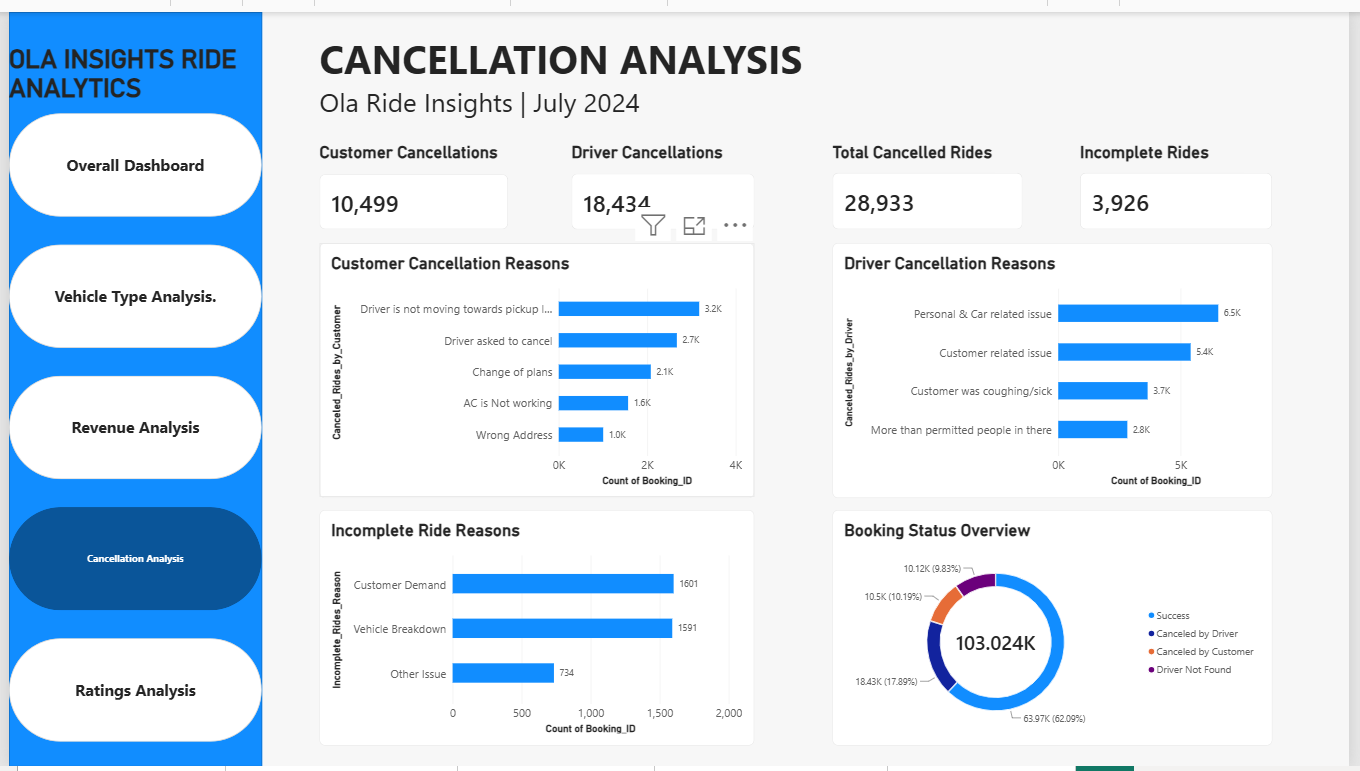

What the dashboard file says about the page in this screenshot:
{"tool":"powerbi","page":{"name":"Cancellation Analysis","canvas":[1920,1080],"ordinal":3},"visuals":[{"type":"cardVisual","title":"Customer Cancellations","fields":{"Data":["ola_rides_cleaned.Customer Cancellations"]},"box":[445,187.5,270,125],"z":0},{"type":"cardVisual","title":"Driver Cancellations","fields":{"Data":["ola_rides_cleaned.Driver Cancellations"]},"box":[805,187.5,262.5,125],"z":1},{"type":"cardVisual","title":"Total Cancelled Rides","fields":{"Data":["ola_rides_cleaned.Total Cancelled Rides"]},"box":[1180,187.5,272.5,125],"z":2},{"type":"cardVisual","title":"Incomplete Rides","fields":{"Data":["ola_rides_cleaned.Incomplete Rides"]},"box":[1535,187.5,275,125],"z":3},{"type":"textbox","box":[445,27.5,1365,160],"z":4},{"type":"clusteredBarChart","title":"Customer Cancellation Reasons","fields":{"Category":["ola_rides_cleaned.Canceled_Rides_by_Customer"],"Y":["CountNonNull(ola_rides_cleaned.Booking_ID)"]},"box":[445,330,622.5,365],"z":5},{"type":"clusteredBarChart","title":"Driver Cancellation Reasons","fields":{"Category":["ola_rides_cleaned.Canceled_Rides_by_Driver"],"Y":["CountNonNull(ola_rides_cleaned.Booking_ID)"]},"box":[1180,330,630,365],"z":6},{"type":"clusteredBarChart","title":"Incomplete Ride Reasons","fields":{"Category":["ola_rides_cleaned.Incomplete_Rides_Reason"],"Y":["CountNonNull(ola_rides_cleaned.Booking_ID)"]},"box":[445,712.5,622.5,337.5],"z":7},{"type":"donutChart","title":"Booking Status Overview","fields":{"Category":["ola_rides_cleaned.Booking_Status"],"Y":["CountNonNull(ola_rides_cleaned.Booking_ID)"]},"box":[1180,712.5,630,337.5],"z":8},{"type":"shape","box":[0,0,362.7,1080.8],"z":9},{"type":"pageNavigator","title":"OLA INSIGHTS  RIDE ANALYTICS","box":[0,45.3,362.7,1004.5],"z":10}]}

Visuals, with their boxes in screenshot pixels (x1, y1, x2, y2), scaled from the page's 1920x1080 canvas onto the 1360x771 screenshot:
"Customer Cancellations" cardVisual: box=[315, 134, 506, 223]
"Driver Cancellations" cardVisual: box=[570, 134, 756, 223]
"Total Cancelled Rides" cardVisual: box=[836, 134, 1029, 223]
"Incomplete Rides" cardVisual: box=[1087, 134, 1282, 223]
textbox: box=[315, 20, 1282, 134]
"Customer Cancellation Reasons" clusteredBarChart: box=[315, 236, 756, 496]
"Driver Cancellation Reasons" clusteredBarChart: box=[836, 236, 1282, 496]
"Incomplete Ride Reasons" clusteredBarChart: box=[315, 509, 756, 750]
"Booking Status Overview" donutChart: box=[836, 509, 1282, 750]
shape: box=[0, 0, 257, 770]
"OLA INSIGHTS  RIDE ANALYTICS" pageNavigator: box=[0, 32, 257, 749]
